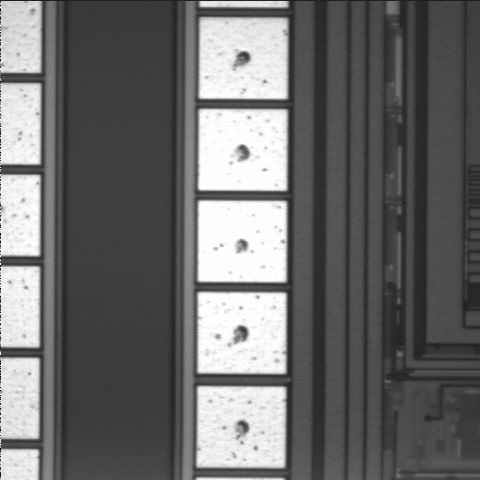pad: (199, 17, 288, 99), (198, 109, 287, 191), (198, 200, 287, 282), (197, 386, 286, 468), (198, 292, 286, 374)
